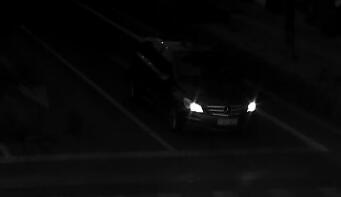car: (116, 25, 257, 132)
